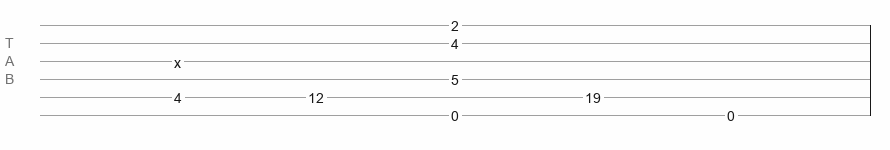0: (451, 108, 459, 118), (727, 108, 735, 118)
12: (308, 90, 324, 100)
19: (585, 90, 601, 100)
2: (451, 18, 459, 28)
4: (174, 90, 182, 100), (451, 36, 459, 46)
5: (451, 72, 459, 82)
x: (174, 55, 181, 63)
